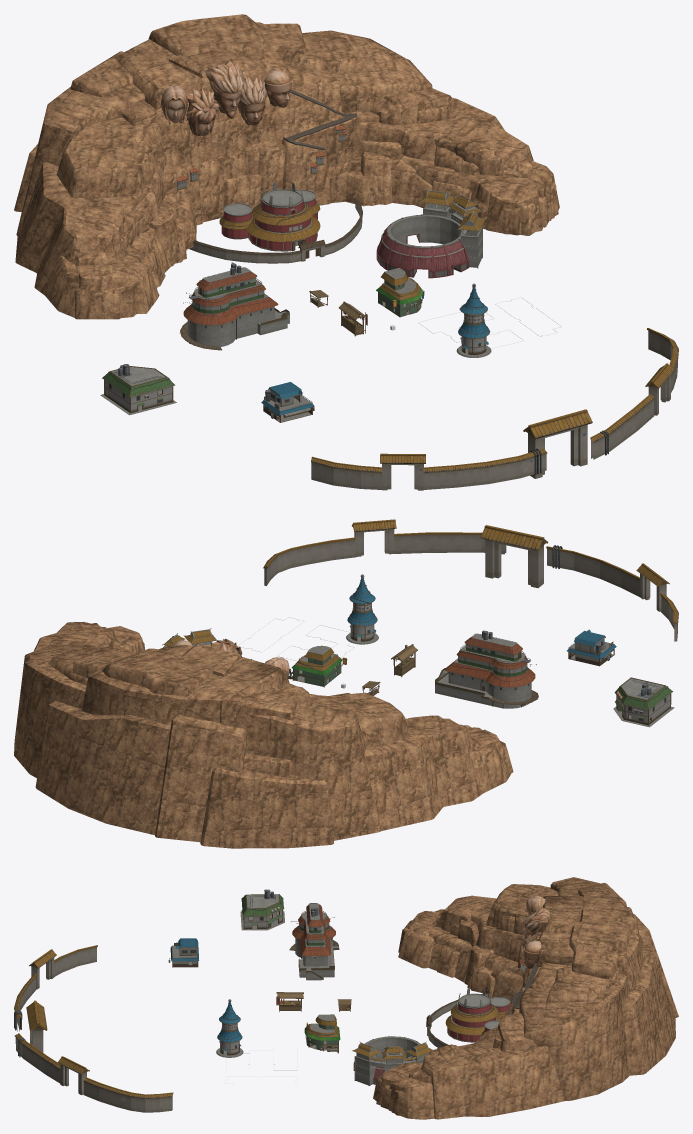
File: building.glb
3 renders of one model, top to bottom at view 1: azimuth 30°, elevation 25°; view 2: azimuth 150°, elevation 25°; view 3: azimuth 270°, elevation 25°, orthographic. The views are drawn at different scales.
Parts seen in each view (by area): view 1: Mesh_0194.rip_mat0.006_0_mat0.006_0_82, Mesh_0017.rip_mat0.016_0_mat0.016_0_19, Mesh_0023.rip_mat0.029_0_mat0.029_0_28, Mesh_0024.rip_mat0.020_0_mat0.020_0_31, Mesh_0195.rip_mat0.007_0_mat0.007_0_85, Mesh_0032.rip_mat0.027_0_mat0.027_0_58, Mesh_0027.rip_mat0.022_0_mat0.022_0_37, Mesh_0186.rip_mat0.002_0_mat0.002_0_76, Mesh_0033.rip_mat0.028_0_mat0.028_0_64, Mesh_0022.rip_mat0.018_0_mat0.018_0_25, Mesh_0031.rip_mat0.026_0_mat0.026_0_52, Mesh_0025.rip_mat0.021_0_mat0.021_0_34 (+1 smaller); view 2: Mesh_0194.rip_mat0.006_0_mat0.006_0_82, Mesh_0017.rip_mat0.016_0_mat0.016_0_19, Mesh_0024.rip_mat0.020_0_mat0.020_0_31, Mesh_0027.rip_mat0.022_0_mat0.022_0_37, Mesh_0033.rip_mat0.028_0_mat0.028_0_64, Mesh_0022.rip_mat0.018_0_mat0.018_0_25, Mesh_0031.rip_mat0.026_0_mat0.026_0_52, Mesh_0025.rip_mat0.021_0_mat0.021_0_34, Mesh_0195.rip_mat0.007_0_mat0.007_0_85, Mesh_0012.rip_mat0.011_0_mat0.011_0_7, Mesh_0023.rip_mat0.029_0_mat0.029_0_28; view 3: Mesh_0194.rip_mat0.006_0_mat0.006_0_82, Mesh_0017.rip_mat0.016_0_mat0.016_0_19, Mesh_0024.rip_mat0.020_0_mat0.020_0_31, Mesh_0023.rip_mat0.029_0_mat0.029_0_28, Mesh_0032.rip_mat0.027_0_mat0.027_0_58, Mesh_0027.rip_mat0.022_0_mat0.022_0_37, Mesh_0195.rip_mat0.007_0_mat0.007_0_85, Mesh_0022.rip_mat0.018_0_mat0.018_0_25, Mesh_0031.rip_mat0.026_0_mat0.026_0_52, Mesh_0025.rip_mat0.021_0_mat0.021_0_34, Mesh_0033.rip_mat0.028_0_mat0.028_0_64, Mesh_0186.rip_mat0.002_0_mat0.002_0_76 (+2 smaller).
Part boxes in pixels (x1,y1,x2,y2): Mesh_0194.rip_mat0.006_0_mat0.006_0_82: [14, 14, 559, 319]; Mesh_0017.rip_mat0.016_0_mat0.016_0_19: [311, 328, 678, 490]; Mesh_0023.rip_mat0.029_0_mat0.029_0_28: [376, 189, 485, 278]; Mesh_0024.rip_mat0.020_0_mat0.020_0_31: [180, 262, 289, 350]; Mesh_0195.rip_mat0.007_0_mat0.007_0_85: [161, 61, 291, 136]; Mesh_0032.rip_mat0.027_0_mat0.027_0_58: [219, 182, 320, 251]; Mesh_0027.rip_mat0.022_0_mat0.022_0_37: [100, 364, 176, 415]; Mesh_0186.rip_mat0.002_0_mat0.002_0_76: [189, 198, 362, 263]; Mesh_0033.rip_mat0.028_0_mat0.028_0_64: [523, 409, 592, 478]; Mesh_0022.rip_mat0.018_0_mat0.018_0_25: [376, 268, 424, 317]; Mesh_0031.rip_mat0.026_0_mat0.026_0_52: [456, 283, 491, 357]; Mesh_0025.rip_mat0.021_0_mat0.021_0_34: [261, 382, 314, 422]; Mesh_0194.rip_mat0.006_0_mat0.006_0_82: [14, 621, 513, 848]; Mesh_0017.rip_mat0.016_0_mat0.016_0_19: [263, 519, 678, 641]; Mesh_0024.rip_mat0.020_0_mat0.020_0_31: [435, 630, 538, 708]; Mesh_0027.rip_mat0.022_0_mat0.022_0_37: [613, 677, 674, 727]; Mesh_0033.rip_mat0.028_0_mat0.028_0_64: [480, 525, 548, 588]; Mesh_0022.rip_mat0.018_0_mat0.018_0_25: [288, 645, 346, 687]; Mesh_0031.rip_mat0.026_0_mat0.026_0_52: [346, 574, 378, 644]; Mesh_0025.rip_mat0.021_0_mat0.021_0_34: [567, 629, 616, 666]; Mesh_0195.rip_mat0.007_0_mat0.007_0_85: [173, 638, 289, 677]; Mesh_0012.rip_mat0.011_0_mat0.011_0_7: [391, 644, 417, 677]; Mesh_0023.rip_mat0.029_0_mat0.029_0_28: [162, 628, 217, 647]; Mesh_0194.rip_mat0.006_0_mat0.006_0_82: [373, 877, 678, 1119]; Mesh_0017.rip_mat0.016_0_mat0.016_0_19: [14, 945, 173, 1112]; Mesh_0024.rip_mat0.020_0_mat0.020_0_31: [289, 903, 339, 980]; Mesh_0023.rip_mat0.029_0_mat0.029_0_28: [352, 1036, 432, 1085]; Mesh_0032.rip_mat0.027_0_mat0.027_0_58: [445, 988, 510, 1042]; Mesh_0027.rip_mat0.022_0_mat0.022_0_37: [240, 889, 284, 930]; Mesh_0195.rip_mat0.007_0_mat0.007_0_85: [521, 895, 550, 968]; Mesh_0022.rip_mat0.018_0_mat0.018_0_25: [304, 1014, 340, 1053]; Mesh_0031.rip_mat0.026_0_mat0.026_0_52: [216, 999, 243, 1057]; Mesh_0025.rip_mat0.021_0_mat0.021_0_34: [168, 938, 198, 967]; Mesh_0033.rip_mat0.028_0_mat0.028_0_64: [26, 1000, 47, 1052]; Mesh_0186.rip_mat0.002_0_mat0.002_0_76: [426, 993, 488, 1047].
Bounding box in the file's own units: 325 × 99.67 × 439.
17 materials, 15 textured.
